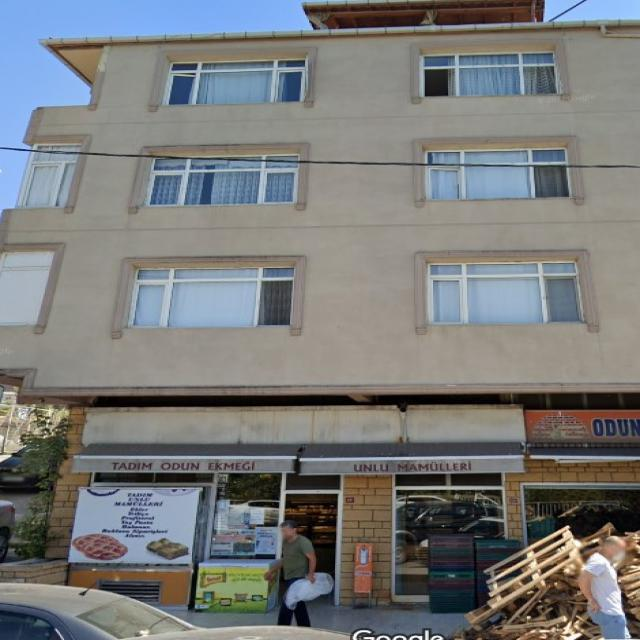Building: (1, 0, 640, 605)
